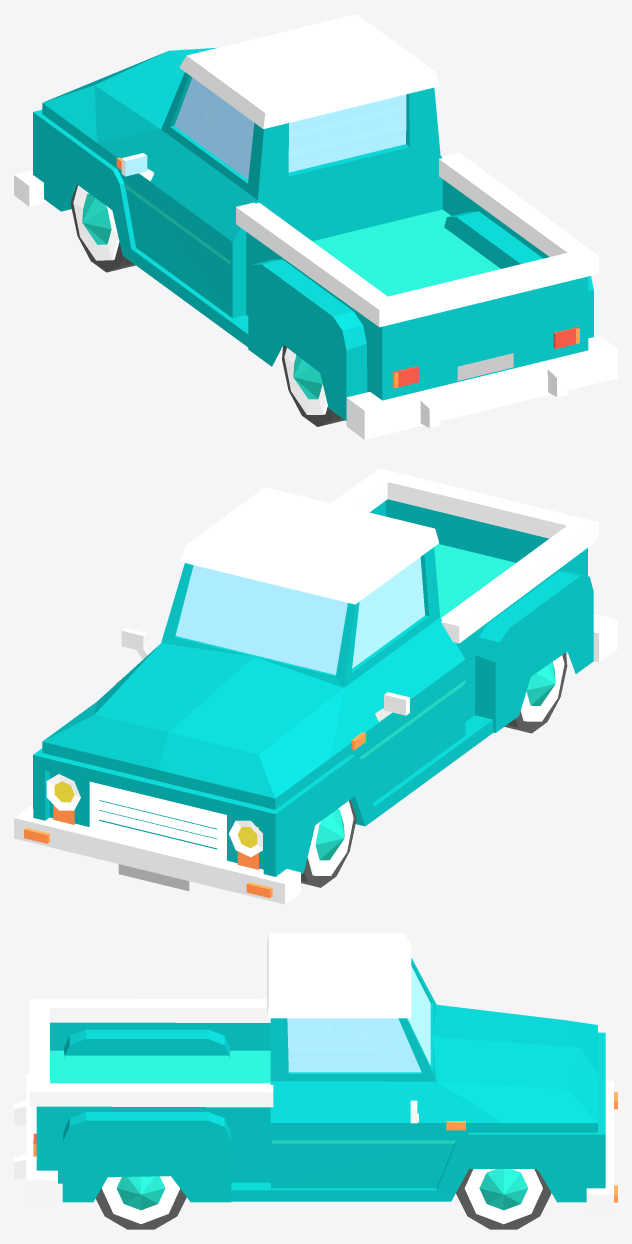
Rendered from transport_cool.006.glb.
3 renders of one model, top to bottom at view 1: azimuth 30°, elevation 25°; view 2: azimuth 150°, elevation 25°; view 3: azimuth 270°, elevation 25°, orthographic. The views are drawn at different scales.
Parts seen in each view (by area): view 1: transport_cool.006(Clone); view 2: transport_cool.006(Clone); view 3: transport_cool.006(Clone).
Boxes of the visible parts, bbox=[...] form: transport_cool.006(Clone): bbox=[14, 14, 617, 439]; transport_cool.006(Clone): bbox=[14, 468, 617, 904]; transport_cool.006(Clone): bbox=[14, 933, 617, 1229].
Size of the model in its own units: 1.79 by 1.48 by 3.81.
Materials: 1 (1 with a texture image).
